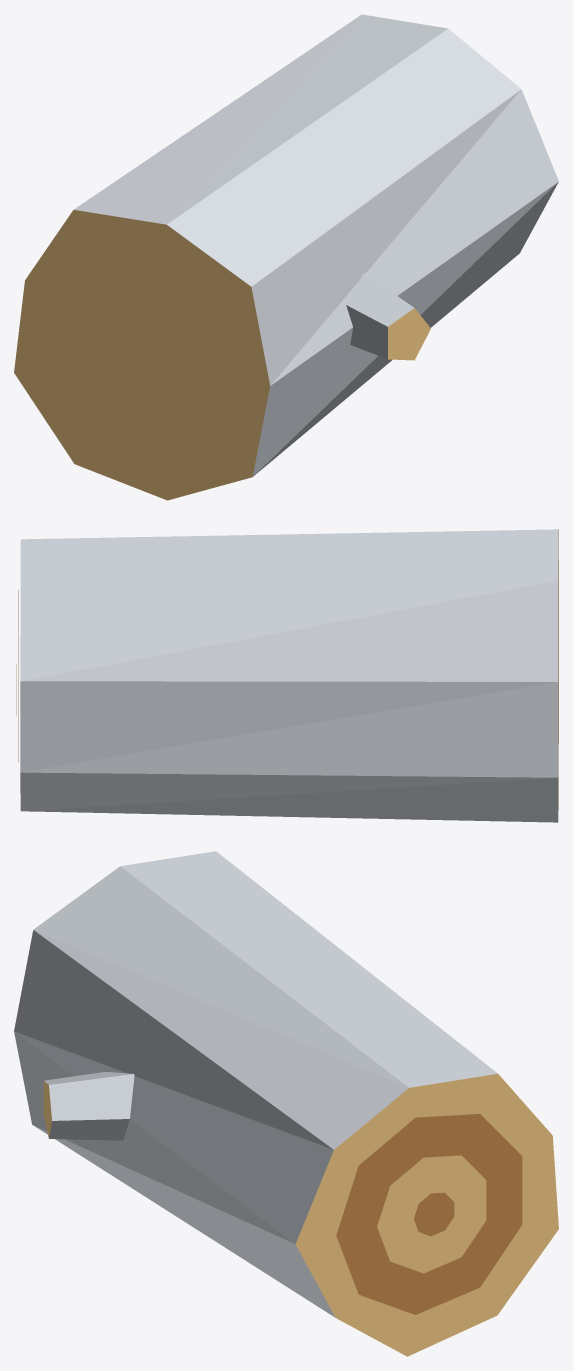
The model's file is Log.obj.
3 views of the same model, one above another, from view 1: azimuth 30°, elevation 25°; view 2: azimuth 150°, elevation 25°; view 3: azimuth 270°, elevation 25° (orthographic). The views are drawn at different scales.
Bounding box in the file's own units: 2.72 × 1.3 × 2.27.
